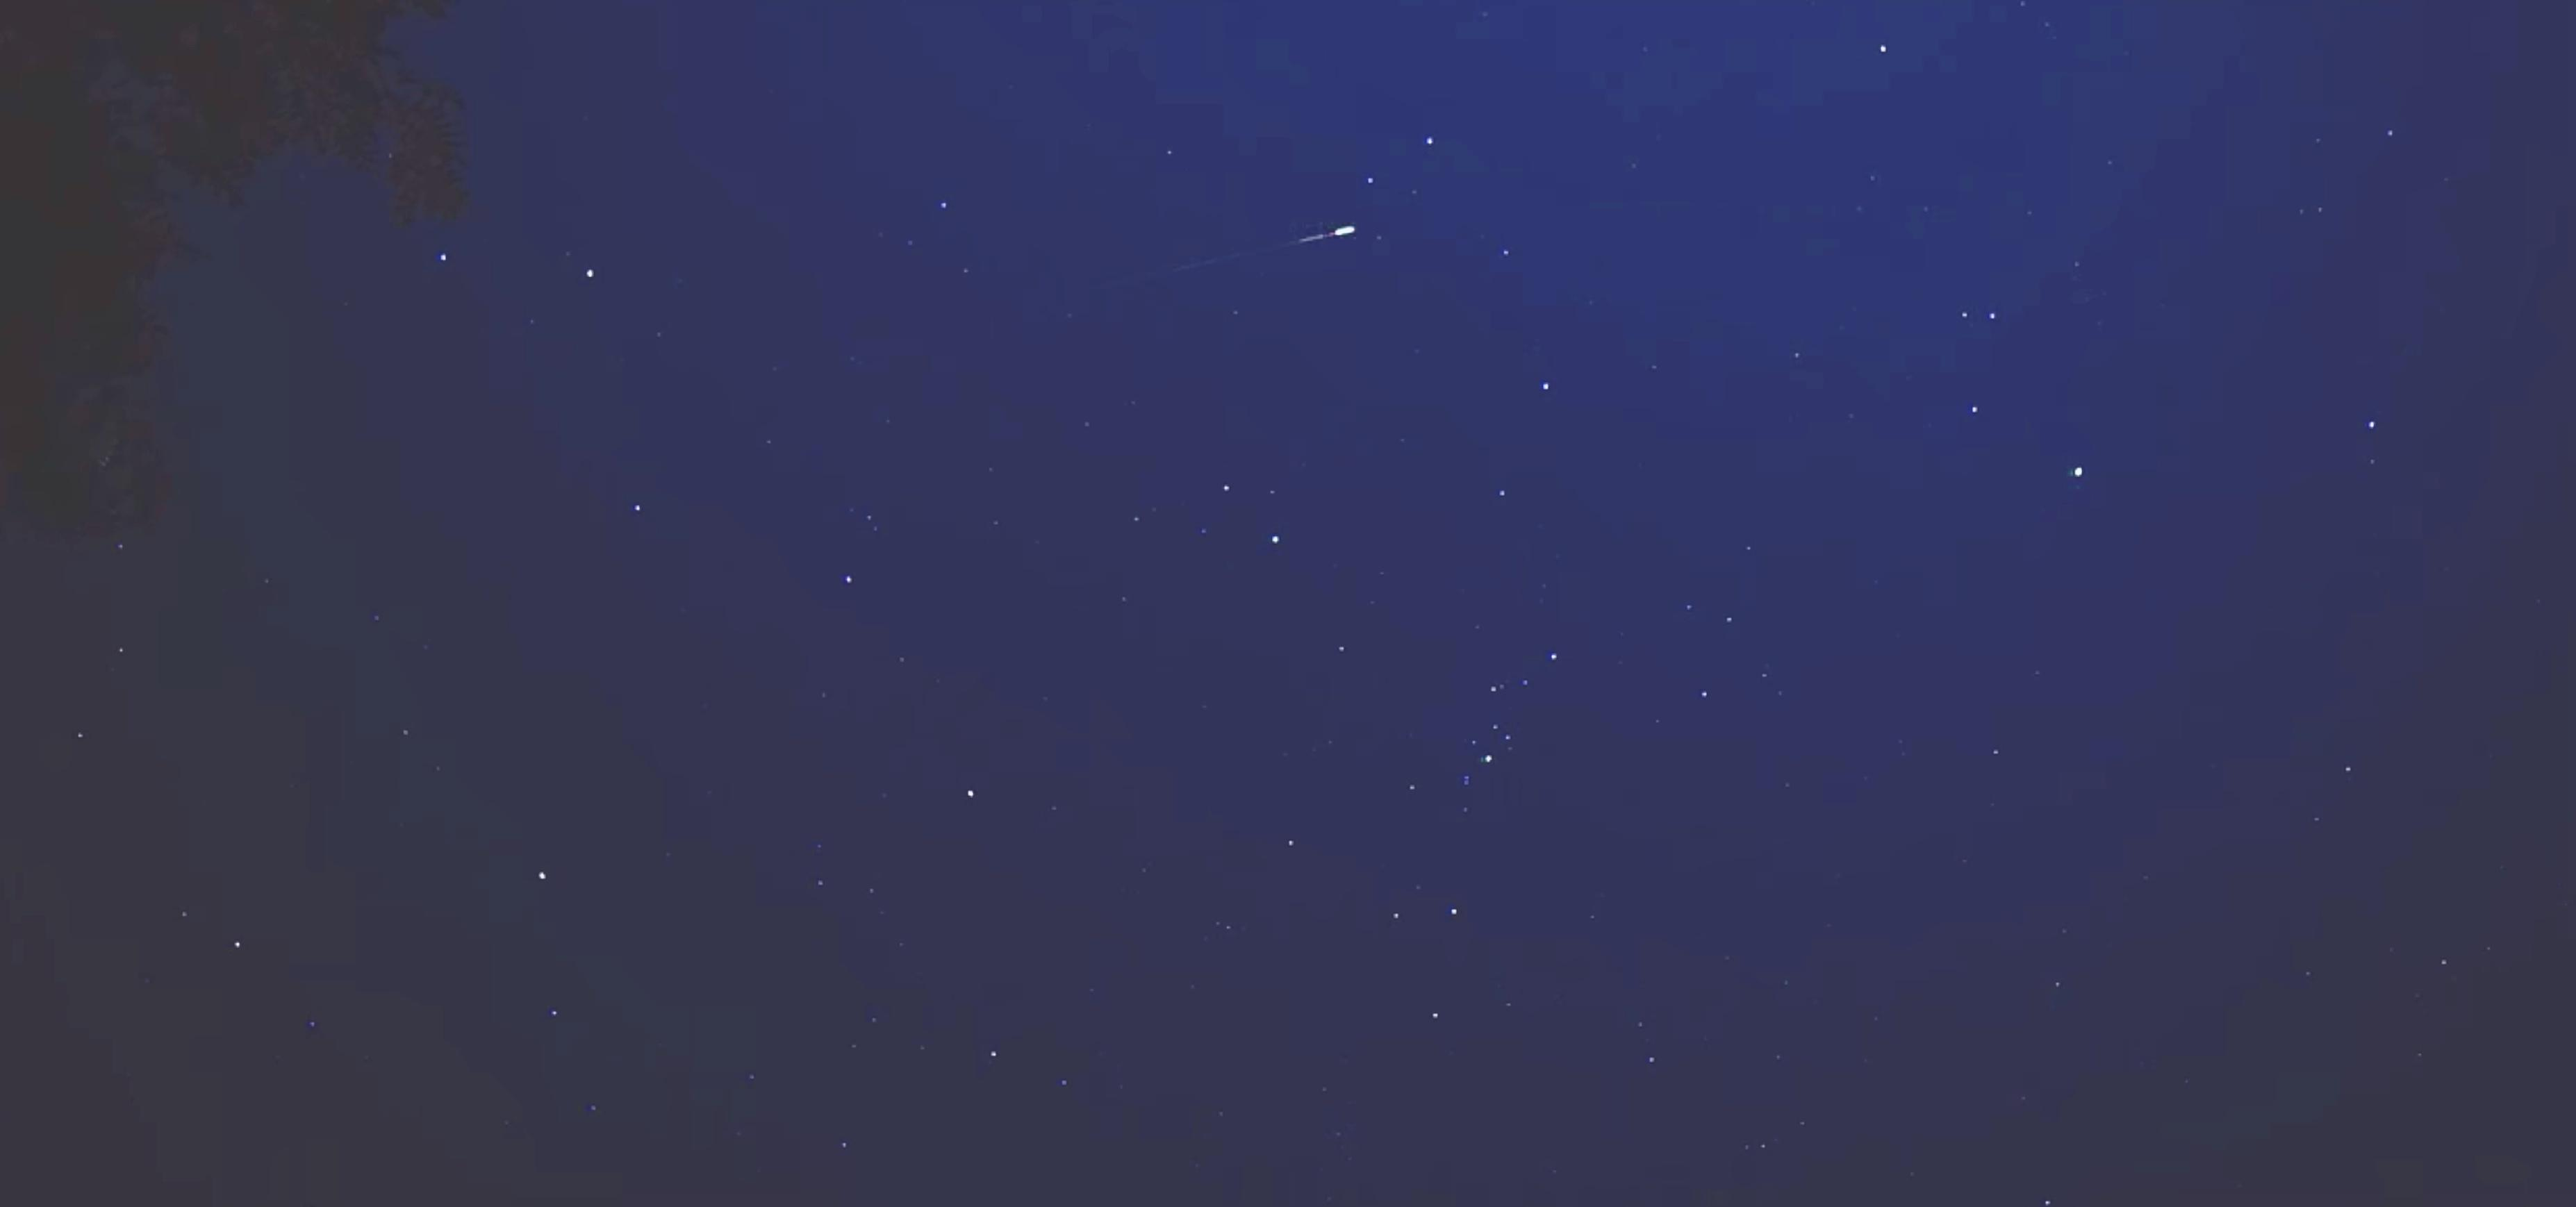meteorite: (1142, 218, 1377, 317)
